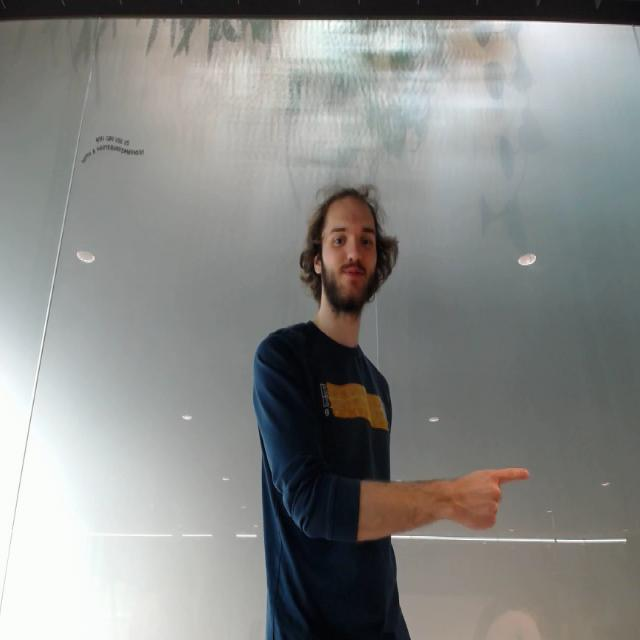right: (445, 462, 535, 534)
